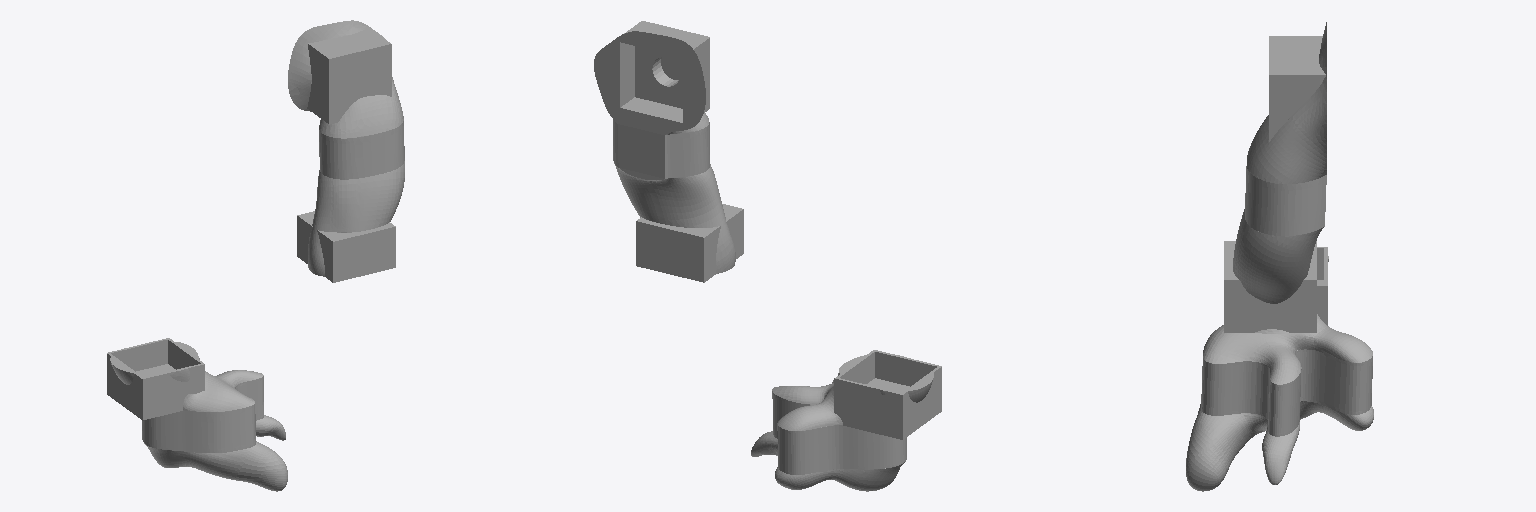
URDF robot description (FrogBot4_top-FrogBot4-y-6_bottom-FrogBot4-y-6):
<?xml version="1.0" ?>
<robot name="FrogBot4_top-FrogBot4-y-6_bottom-FrogBot4-y-6">

<material name="pla_5_percent_infill">
  <color rgba="0.700 0.700 0.700 1.000"/>
</material>

<link name="base_link">
  <inertial>
    <origin xyz="0 0 0" rpy="0 0 0"/>
    <mass value="1.4608203761339813"/>
    <inertia ixx="0.00496034401110324" iyy="0.010259632804669863" izz="0.010457868746855814" ixy="4.519338143051983e-05" iyz="5.808312742508133e-05" ixz="-0.001193761897574285"/>
  </inertial>
  <visual>
    <origin xyz="0 0 0" rpy="0 0 0"/>
    <geometry>
      <mesh filename="simple_meshes/base_link.stl" scale="0.001 0.001 0.001"/>
    </geometry>
    <material name="pla_5_percent_infill"/>
  </visual>
  <collision>
    <origin xyz="0 0 0" rpy="0 0 0"/>
    <geometry>
      <mesh filename="simple_meshes/base_link.stl" scale="0.001 0.001 0.001"/>
    </geometry>
  </collision>
</link>

<link name="body_1_0_1">
  <inertial>
    <origin xyz="-0.039935 -0.102508 -0.020563" rpy="0 0 0"/>
    <mass value="0.08391337745337313"/>
    <inertia ixx="0.000107708054929511" iyy="0.00012337021791642203" izz="3.687093798814488e-05" ixy="9.901716534195895e-07" iyz="2.7818110024143534e-06" ixz="-1.518831388443177e-05"/>
  </inertial>
  <visual>
    <origin xyz="-0.039935 -0.102508 -0.020563" rpy="0 0 0"/>
    <geometry>
      <mesh filename="simple_meshes/body_1_0_1.stl" scale="0.001 0.001 0.001"/>
    </geometry>
    <material name="pla_5_percent_infill"/>
  </visual>
  <collision>
    <origin xyz="-0.039935 -0.102508 -0.020563" rpy="0 0 0"/>
    <geometry>
      <mesh filename="simple_meshes/body_1_0_1.stl" scale="0.001 0.001 0.001"/>
    </geometry>
  </collision>
</link>

<link name="body_1_1_1">
  <inertial>
    <origin xyz="0.084829 -0.102508 0.010182" rpy="0 0 0"/>
    <mass value="0.09690447784595647"/>
    <inertia ixx="8.486720446513165e-05" iyy="0.00013339551480656545" izz="7.315573048027662e-05" ixy="-1.956951799241208e-06" iyz="1.53670200892539e-06" ixz="-2.678860930222318e-05"/>
  </inertial>
  <visual>
    <origin xyz="0.084829 -0.102508 0.010182" rpy="0 0 0"/>
    <geometry>
      <mesh filename="simple_meshes/body_1_1_1.stl" scale="0.001 0.001 0.001"/>
    </geometry>
    <material name="pla_5_percent_infill"/>
  </visual>
  <collision>
    <origin xyz="0.084829 -0.102508 0.010182" rpy="0 0 0"/>
    <geometry>
      <mesh filename="simple_meshes/body_1_1_1.stl" scale="0.001 0.001 0.001"/>
    </geometry>
  </collision>
</link>

<link name="body_1_2_1">
  <inertial>
    <origin xyz="-0.032973 0.102508 -0.03352" rpy="0 0 0"/>
    <mass value="0.09009116526525986"/>
    <inertia ixx="0.0001330463903118687" iyy="0.0001473501853028843" izz="4.0161479036824894e-05" ixy="-2.6035263311660443e-06" iyz="-1.2623762672274528e-05" ixz="-1.2883933912707773e-05"/>
  </inertial>
  <visual>
    <origin xyz="-0.032973 0.102508 -0.03352" rpy="0 0 0"/>
    <geometry>
      <mesh filename="simple_meshes/body_1_2_1.stl" scale="0.001 0.001 0.001"/>
    </geometry>
    <material name="pla_5_percent_infill"/>
  </visual>
  <collision>
    <origin xyz="-0.032973 0.102508 -0.03352" rpy="0 0 0"/>
    <geometry>
      <mesh filename="simple_meshes/body_1_2_1.stl" scale="0.001 0.001 0.001"/>
    </geometry>
  </collision>
</link>

<link name="body_1_3_1">
  <inertial>
    <origin xyz="0.075405 0.102508 -0.000907" rpy="0 0 0"/>
    <mass value="0.102974359676674"/>
    <inertia ixx="9.340508879547398e-05" iyy="0.00014297776703344183" izz="7.645777616253121e-05" ixy="1.735778857889312e-07" iyz="-1.5849478522092682e-06" ixz="-2.6593101054936874e-05"/>
  </inertial>
  <visual>
    <origin xyz="0.075405 0.102508 -0.000907" rpy="0 0 0"/>
    <geometry>
      <mesh filename="simple_meshes/body_1_3_1.stl" scale="0.001 0.001 0.001"/>
    </geometry>
    <material name="pla_5_percent_infill"/>
  </visual>
  <collision>
    <origin xyz="0.075405 0.102508 -0.000907" rpy="0 0 0"/>
    <geometry>
      <mesh filename="simple_meshes/body_1_3_1.stl" scale="0.001 0.001 0.001"/>
    </geometry>
  </collision>
</link>

<link name="body_2_0_1">
  <inertial>
    <origin xyz="-0.025656 -0.145015 0.115436" rpy="0 0 0"/>
    <mass value="0.10814465605857151"/>
    <inertia ixx="8.477950811622541e-05" iyy="0.00010633492797700646" izz="0.00010853723608463895" ixy="-3.9307082537454446e-07" iyz="9.18729375031218e-07" ixz="2.3261636753739044e-05"/>
  </inertial>
  <visual>
    <origin xyz="-0.025656 -0.145015 0.115436" rpy="0 0 0"/>
    <geometry>
      <mesh filename="simple_meshes/body_2_0_1.stl" scale="0.001 0.001 0.001"/>
    </geometry>
    <material name="pla_5_percent_infill"/>
  </visual>
  <collision>
    <origin xyz="-0.025656 -0.145015 0.115436" rpy="0 0 0"/>
    <geometry>
      <mesh filename="simple_meshes/body_2_0_1.stl" scale="0.001 0.001 0.001"/>
    </geometry>
  </collision>
</link>

<link name="body_2_1_1">
  <inertial>
    <origin xyz="0.114857 -0.145661 0.115438" rpy="0 0 0"/>
    <mass value="0.09254938080743046"/>
    <inertia ixx="6.222607374183758e-05" iyy="9.586049762318498e-05" izz="7.748111811619338e-05" ixy="-3.4202023248960586e-06" iyz="5.487652990234133e-06" ixz="2.397725964488036e-05"/>
  </inertial>
  <visual>
    <origin xyz="0.114857 -0.145661 0.115438" rpy="0 0 0"/>
    <geometry>
      <mesh filename="simple_meshes/body_2_1_1.stl" scale="0.001 0.001 0.001"/>
    </geometry>
    <material name="pla_5_percent_infill"/>
  </visual>
  <collision>
    <origin xyz="0.114857 -0.145661 0.115438" rpy="0 0 0"/>
    <geometry>
      <mesh filename="simple_meshes/body_2_1_1.stl" scale="0.001 0.001 0.001"/>
    </geometry>
  </collision>
</link>

<link name="body_2_2_1">
  <inertial>
    <origin xyz="-0.022601 0.152053 0.115436" rpy="0 0 0"/>
    <mass value="0.11724314250921297"/>
    <inertia ixx="9.12895357742952e-05" iyy="0.00011702781650043195" izz="0.00011675662240041721" ixy="-3.2430370847779527e-06" iyz="-7.234377882685272e-07" ixz="2.5753588689109933e-05"/>
  </inertial>
  <visual>
    <origin xyz="-0.022601 0.152053 0.115436" rpy="0 0 0"/>
    <geometry>
      <mesh filename="simple_meshes/body_2_2_1.stl" scale="0.001 0.001 0.001"/>
    </geometry>
    <material name="pla_5_percent_infill"/>
  </visual>
  <collision>
    <origin xyz="-0.022601 0.152053 0.115436" rpy="0 0 0"/>
    <geometry>
      <mesh filename="simple_meshes/body_2_2_1.stl" scale="0.001 0.001 0.001"/>
    </geometry>
  </collision>
</link>

<link name="body_2_3_1">
  <inertial>
    <origin xyz="0.12145 0.146005 0.115436" rpy="0 0 0"/>
    <mass value="0.09660274356269134"/>
    <inertia ixx="7.787953273769715e-05" iyy="8.565177688397378e-05" izz="9.151220984437991e-05" ixy="6.182347057017866e-06" iyz="-9.724222368828663e-06" ixz="1.6623366316983806e-05"/>
  </inertial>
  <visual>
    <origin xyz="0.12145 0.146005 0.115436" rpy="0 0 0"/>
    <geometry>
      <mesh filename="simple_meshes/body_2_3_1.stl" scale="0.001 0.001 0.001"/>
    </geometry>
    <material name="pla_5_percent_infill"/>
  </visual>
  <collision>
    <origin xyz="0.12145 0.146005 0.115436" rpy="0 0 0"/>
    <geometry>
      <mesh filename="simple_meshes/body_2_3_1.stl" scale="0.001 0.001 0.001"/>
    </geometry>
  </collision>
</link>

<joint name="joint_1_0" type="revolute">
  <origin xyz="0.039935 0.102508 0.020563" rpy="0 0 0"/>
  <parent link="base_link"/>
  <child link="body_1_0_1"/>
  <axis xyz="0.0 0.0 -1.0"/>
  <limit upper="1.2" lower="-1.2" effort="3.8" velocity="5.4"/>
</joint>
<transmission name="joint_1_0_tran">
  <type>transmission_interface/SimpleTransmission</type>
  <joint name="joint_1_0">
    <hardwareInterface>PositionJointInterface</hardwareInterface>
  </joint>
  <actuator name="joint_1_0_actr">
    <hardwareInterface>PositionJointInterface</hardwareInterface>
    <mechanicalReduction>1</mechanicalReduction>
  </actuator>
</transmission>

<joint name="joint_1_1" type="revolute">
  <origin xyz="-0.084829 0.102508 -0.010182" rpy="0 0 0"/>
  <parent link="base_link"/>
  <child link="body_1_1_1"/>
  <axis xyz="0.0 0.0 -1.0"/>
  <limit upper="1.2" lower="-1.2" effort="3.8" velocity="5.4"/>
</joint>
<transmission name="joint_1_1_tran">
  <type>transmission_interface/SimpleTransmission</type>
  <joint name="joint_1_1">
    <hardwareInterface>PositionJointInterface</hardwareInterface>
  </joint>
  <actuator name="joint_1_1_actr">
    <hardwareInterface>PositionJointInterface</hardwareInterface>
    <mechanicalReduction>1</mechanicalReduction>
  </actuator>
</transmission>

<joint name="joint_1_2" type="revolute">
  <origin xyz="0.032973 -0.102508 0.03352" rpy="0 0 0"/>
  <parent link="base_link"/>
  <child link="body_1_2_1"/>
  <axis xyz="0.0 0.0 -1.0"/>
  <limit upper="1.2" lower="-1.2" effort="3.8" velocity="5.4"/>
</joint>
<transmission name="joint_1_2_tran">
  <type>transmission_interface/SimpleTransmission</type>
  <joint name="joint_1_2">
    <hardwareInterface>PositionJointInterface</hardwareInterface>
  </joint>
  <actuator name="joint_1_2_actr">
    <hardwareInterface>PositionJointInterface</hardwareInterface>
    <mechanicalReduction>1</mechanicalReduction>
  </actuator>
</transmission>

<joint name="joint_1_3" type="revolute">
  <origin xyz="-0.075405 -0.102508 0.000907" rpy="0 0 0"/>
  <parent link="base_link"/>
  <child link="body_1_3_1"/>
  <axis xyz="0.0 0.0 -1.0"/>
  <limit upper="1.2" lower="-1.2" effort="3.8" velocity="5.4"/>
</joint>
<transmission name="joint_1_3_tran">
  <type>transmission_interface/SimpleTransmission</type>
  <joint name="joint_1_3">
    <hardwareInterface>PositionJointInterface</hardwareInterface>
  </joint>
  <actuator name="joint_1_3_actr">
    <hardwareInterface>PositionJointInterface</hardwareInterface>
    <mechanicalReduction>1</mechanicalReduction>
  </actuator>
</transmission>

<joint name="joint_2_0" type="revolute">
  <origin xyz="-0.014279 0.042507 -0.135999" rpy="0 0 0"/>
  <parent link="body_1_0_1"/>
  <child link="body_2_0_1"/>
  <axis xyz="0.0 1.0 0.0"/>
  <limit upper="1.2" lower="-1.2" effort="3.8" velocity="5.4"/>
</joint>
<transmission name="joint_2_0_tran">
  <type>transmission_interface/SimpleTransmission</type>
  <joint name="joint_2_0">
    <hardwareInterface>PositionJointInterface</hardwareInterface>
  </joint>
  <actuator name="joint_2_0_actr">
    <hardwareInterface>PositionJointInterface</hardwareInterface>
    <mechanicalReduction>1</mechanicalReduction>
  </actuator>
</transmission>

<joint name="joint_2_1" type="revolute">
  <origin xyz="-0.030028 0.043153 -0.105256" rpy="0 0 0"/>
  <parent link="body_1_1_1"/>
  <child link="body_2_1_1"/>
  <axis xyz="0.0 1.0 0.0"/>
  <limit upper="1.2" lower="-1.2" effort="3.8" velocity="5.4"/>
</joint>
<transmission name="joint_2_1_tran">
  <type>transmission_interface/SimpleTransmission</type>
  <joint name="joint_2_1">
    <hardwareInterface>PositionJointInterface</hardwareInterface>
  </joint>
  <actuator name="joint_2_1_actr">
    <hardwareInterface>PositionJointInterface</hardwareInterface>
    <mechanicalReduction>1</mechanicalReduction>
  </actuator>
</transmission>

<joint name="joint_2_2" type="revolute">
  <origin xyz="-0.010372 -0.049545 -0.148956" rpy="0 0 0"/>
  <parent link="body_1_2_1"/>
  <child link="body_2_2_1"/>
  <axis xyz="0.0 1.0 0.0"/>
  <limit upper="1.2" lower="-1.2" effort="3.8" velocity="5.4"/>
</joint>
<transmission name="joint_2_2_tran">
  <type>transmission_interface/SimpleTransmission</type>
  <joint name="joint_2_2">
    <hardwareInterface>PositionJointInterface</hardwareInterface>
  </joint>
  <actuator name="joint_2_2_actr">
    <hardwareInterface>PositionJointInterface</hardwareInterface>
    <mechanicalReduction>1</mechanicalReduction>
  </actuator>
</transmission>

<joint name="joint_2_3" type="revolute">
  <origin xyz="-0.046045 -0.043497 -0.116343" rpy="0 0 0"/>
  <parent link="body_1_3_1"/>
  <child link="body_2_3_1"/>
  <axis xyz="0.0 1.0 0.0"/>
  <limit upper="1.2" lower="-1.2" effort="3.8" velocity="5.4"/>
</joint>
<transmission name="joint_2_3_tran">
  <type>transmission_interface/SimpleTransmission</type>
  <joint name="joint_2_3">
    <hardwareInterface>PositionJointInterface</hardwareInterface>
  </joint>
  <actuator name="joint_2_3_actr">
    <hardwareInterface>PositionJointInterface</hardwareInterface>
    <mechanicalReduction>1</mechanicalReduction>
  </actuator>
</transmission>

</robot>

--- Facts derived from the render (not from the file) ---
Views: 3 orthographic renders of the robot side by side, from view 1: azimuth 30°, elevation 25°; view 2: azimuth 150°, elevation 25°; view 3: azimuth 270°, elevation 25°.
Robot: FrogBot4_top-FrogBot4-y-6_bottom-FrogBot4-y-6 — 9 links, 8 joints (8 revolute); root link base_link; default pose: every joint at zero.
Links seen in each view (by area): view 1: body_1_2_1, body_2_3_1; view 2: body_1_2_1, body_2_3_1; view 3: body_1_2_1, body_2_3_1.
Boxes of the visible links, x1,y1,x2,y2 form: body_1_2_1: [288, 20, 404, 282]; body_2_3_1: [107, 338, 287, 491]; body_1_2_1: [594, 21, 743, 282]; body_2_3_1: [751, 350, 941, 491]; body_1_2_1: [1224, 22, 1326, 333]; body_2_3_1: [1186, 247, 1373, 491].
Size in the robot's own frame: 0.2253 by 0.0988 by 0.3008 metres.
2 mesh visuals loaded from 9 distinct referenced files (2 binary STL); not drawn: 7 (reference not matched to a file when rendering).